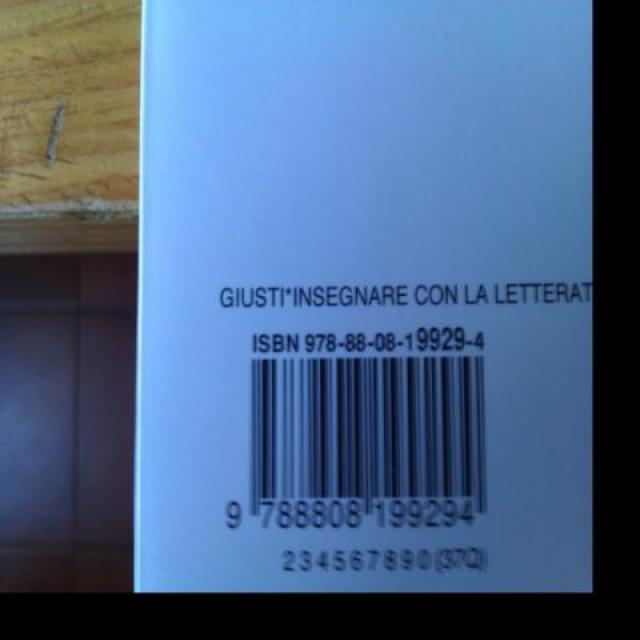Barcode: (204, 317, 516, 543)
